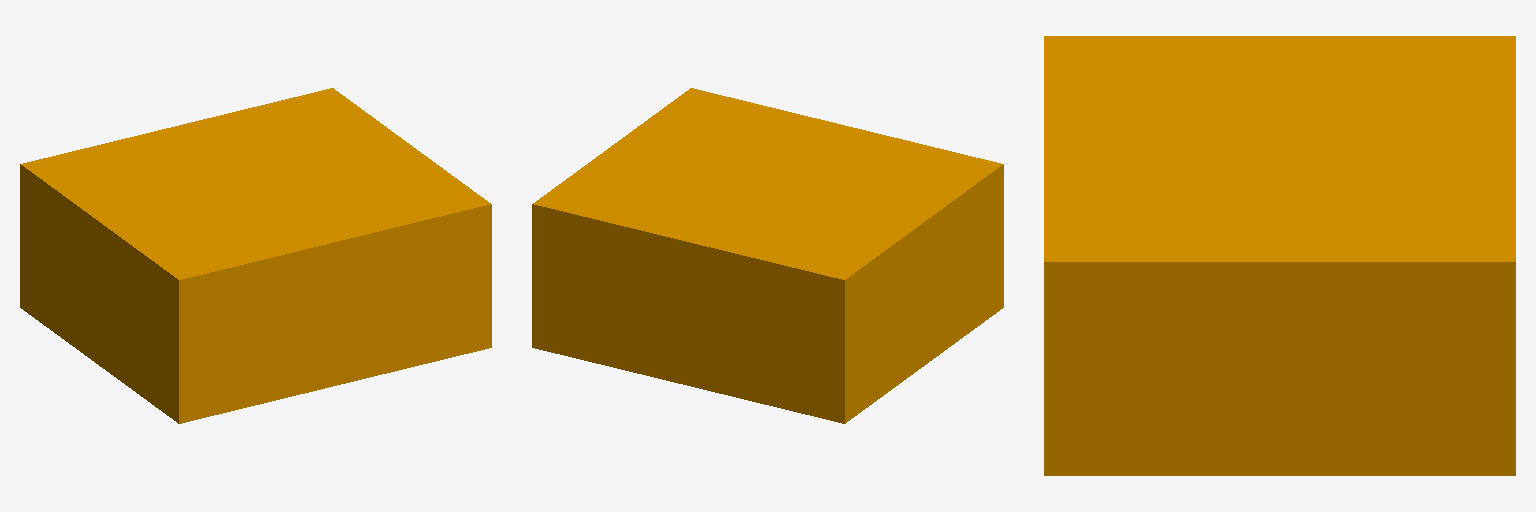
URDF robot description (2x2):
<?xml version='1.0' encoding='UTF-8'?>
<robot name="2x2">
  <link name="base_link">
    <inertial>
      <origin xyz="0.0 0.0 0.0" rpy="0.0 0.0 0.0"/>
      <mass value="0.1"/>
      <inertia ixx="0.1" ixy="0.0" ixz="0.0" iyy="0.1" iyz="0.0" izz="0.1"/>
    </inertial>
    <visual>
      <geometry>
        <box size="0.025 0.022 0.011"/>
      </geometry>
      <material name=""/>
      <origin xyz="0.0 0.0 0.0" rpy="0.0 0.0 0.0"/>
    </visual>
    <collision>
      <geometry>
        <box size="0.025 0.022 0.011"/>
      </geometry>
      <origin xyz="0.0 0.0 0.0" rpy="0.0 0.0 0.0"/>
    </collision>
  </link>
  <material name="">
    <color rgba="0.99759 0.0904  0.97359 1.     "/>
  </material>
  <contact>
    <lateral_friction value="1.0"/>
    <rolling_friction value="0.0"/>
    <contact_cfm value="0.0"/>
    <contact_erp value="1.0"/>
  </contact>
</robot>

--- What the picture shows (computed from the rendered views, not written in the file) ---
The picture shows the robot from 3 angles, left to right: view 1: azimuth 30°, elevation 25°; view 2: azimuth 150°, elevation 25°; view 3: azimuth 270°, elevation 25°; orthographic projection.
Model 2x2 with 1 links and 0 joints (none), rooted at base_link, posed all joints at 0.
Visible links, largest first — view 1: base_link; view 2: base_link; view 3: base_link.
Boxes of the visible links, x1,y1,x2,y2 form: base_link: (20,88,491,423); base_link: (532,88,1003,423); base_link: (1044,36,1515,475).
Bounding box of the posed robot: 0.025 × 0.022 × 0.011 m (x, y, z).
Geometry: primitives only (box / cylinder / sphere), no mesh files.